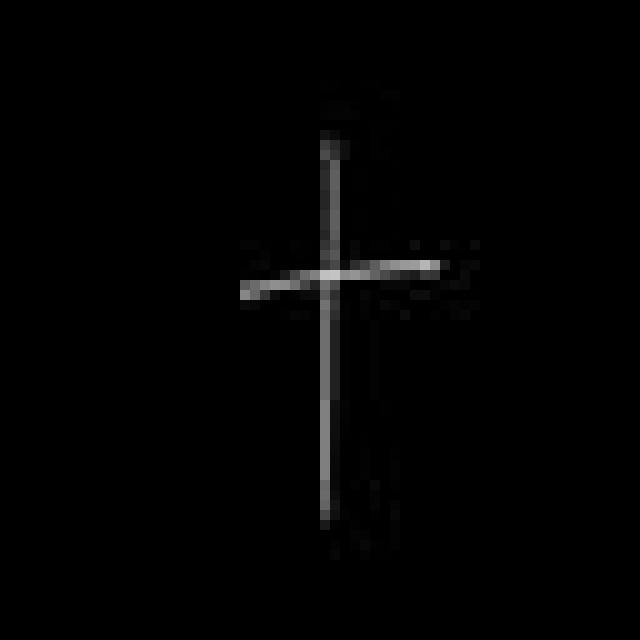10 -ten-: (223, 129, 450, 528)
